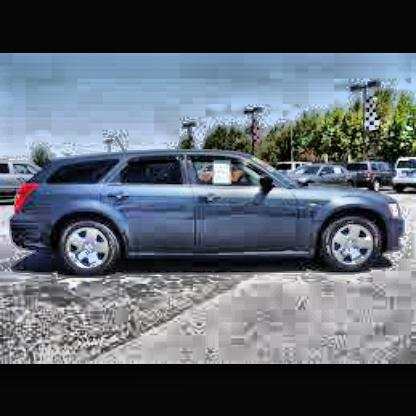Dodge Magnum Wagon 2008: (11, 151, 407, 274)
